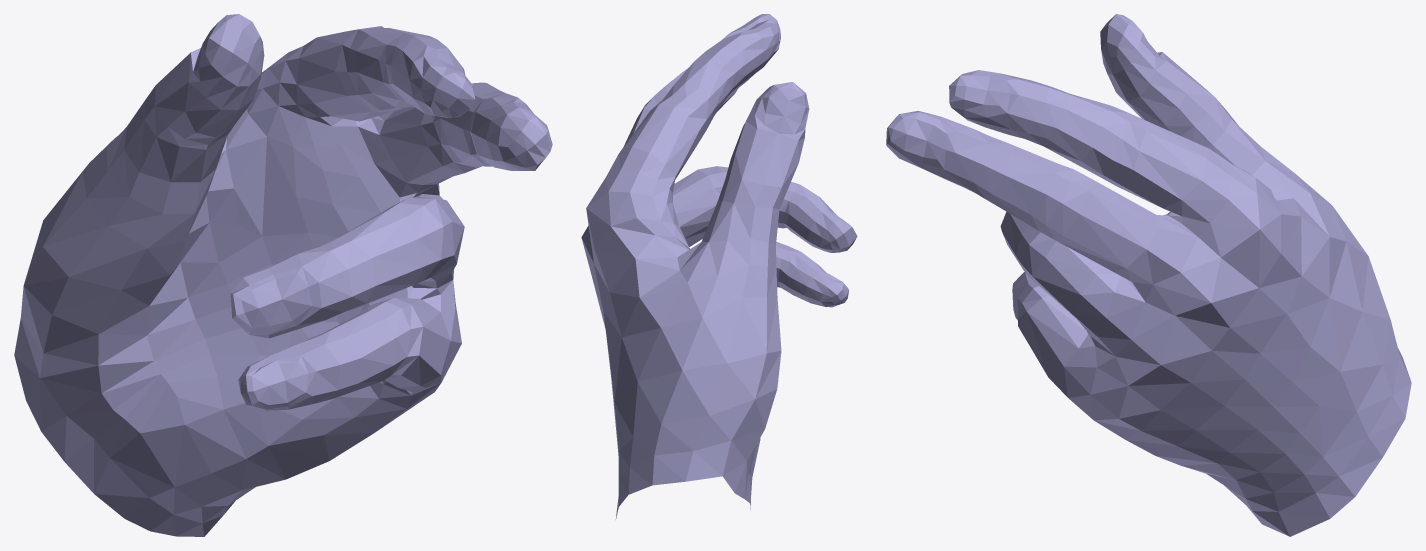
File: hand_0018.glb
3 views of the same model, side by side, from view 1: azimuth 30°, elevation 25°; view 2: azimuth 150°, elevation 25°; view 3: azimuth 270°, elevation 25° (orthographic). The views are drawn at different scales.
Parts seen in each view (by area): view 1: world; view 2: world; view 3: world.
Part boxes in pixels (bbox=[...]): world: bbox=[14, 14, 552, 536]; world: bbox=[581, 14, 857, 519]; world: bbox=[886, 14, 1411, 536].
Size of the model in its own units: 0.0794 by 0.1409 by 0.1386.
